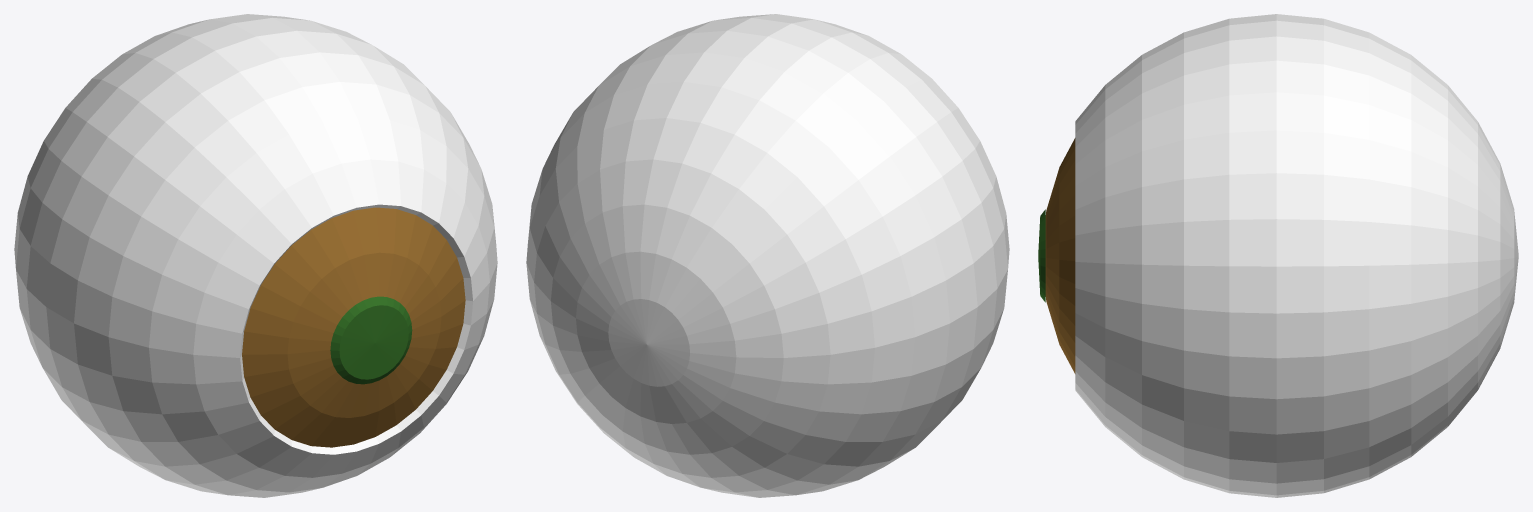
The model's file is EyeSphere1x1.fbx.
The picture shows the model from 3 angles, left to right: view 1: azimuth 30°, elevation 25°; view 2: azimuth 150°, elevation 25°; view 3: azimuth 270°, elevation 25°; orthographic projection.
Parts seen in each view (by area): view 1: EyeSphere1x1, Eye; view 2: EyeSphere1x1; view 3: EyeSphere1x1, Eye.
Part boxes in pixels (bbox=[...]): EyeSphere1x1: bbox=[14, 14, 497, 497]; Eye: bbox=[330, 296, 412, 384]; EyeSphere1x1: bbox=[526, 14, 1009, 497]; EyeSphere1x1: bbox=[1045, 14, 1518, 497]; Eye: bbox=[1038, 209, 1045, 302].
Size of the model in its own units: 1 by 1 by 0.9921.
